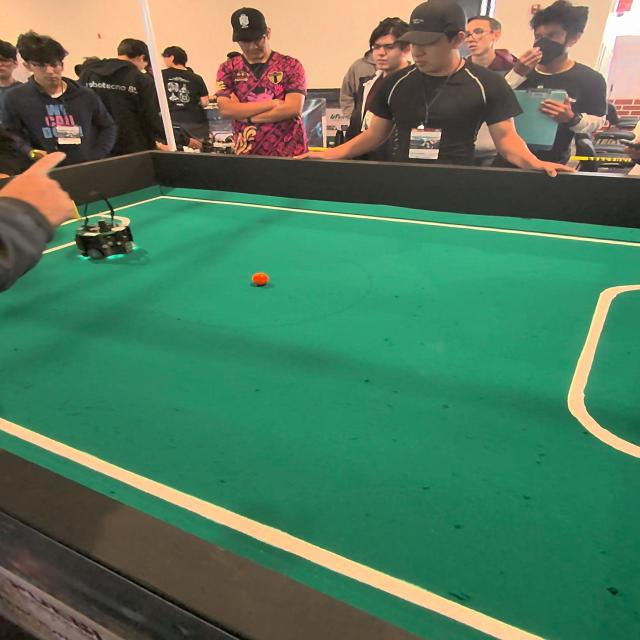Robot: (73, 193, 143, 266)
pelota: (252, 273, 271, 290)
